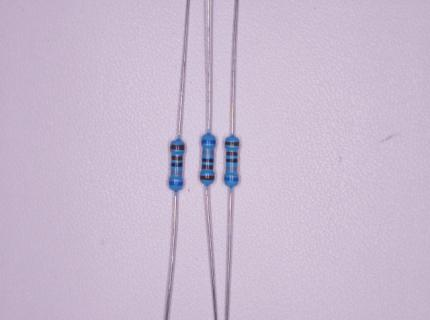Black band: (226, 158, 238, 163), (202, 158, 214, 163), (171, 162, 183, 167)
Blue band: (169, 181, 184, 186), (224, 177, 239, 182), (201, 140, 216, 144)
Brown band: (170, 144, 184, 151), (200, 175, 215, 181), (225, 141, 240, 146), (171, 155, 183, 161), (202, 165, 214, 170), (226, 152, 238, 156)
Grey band: (226, 166, 237, 171), (171, 171, 182, 175), (202, 151, 213, 155)
